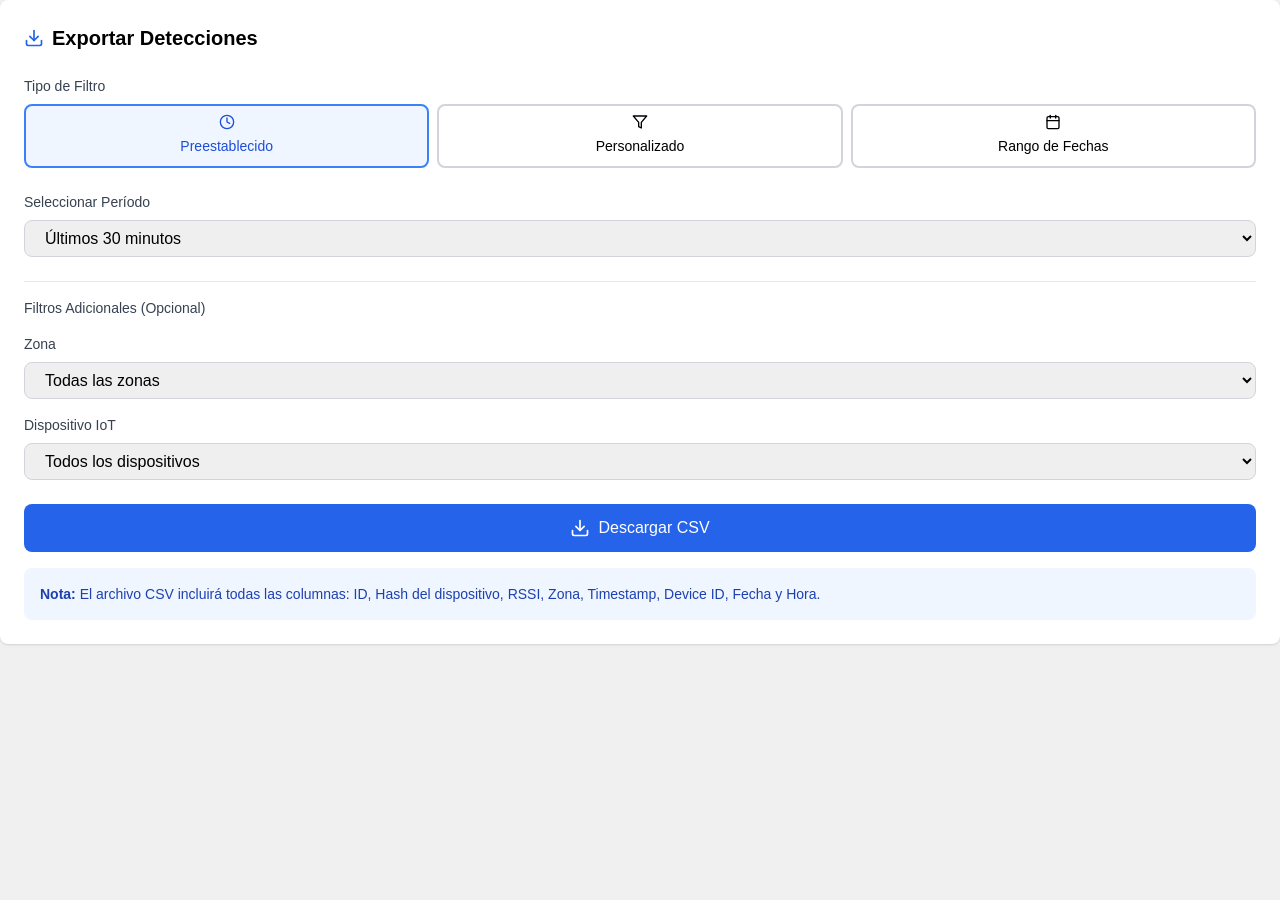
Test: ExportFilters Component › debe limpiar el input personalizado eliminando no dígitos y ceros a la izquierda
The width and height of the screenshot is (1280, 900).
Click the button "Personalizado". click: coordinates (640, 136)
box: x1=437 y1=104 x2=843 y2=168
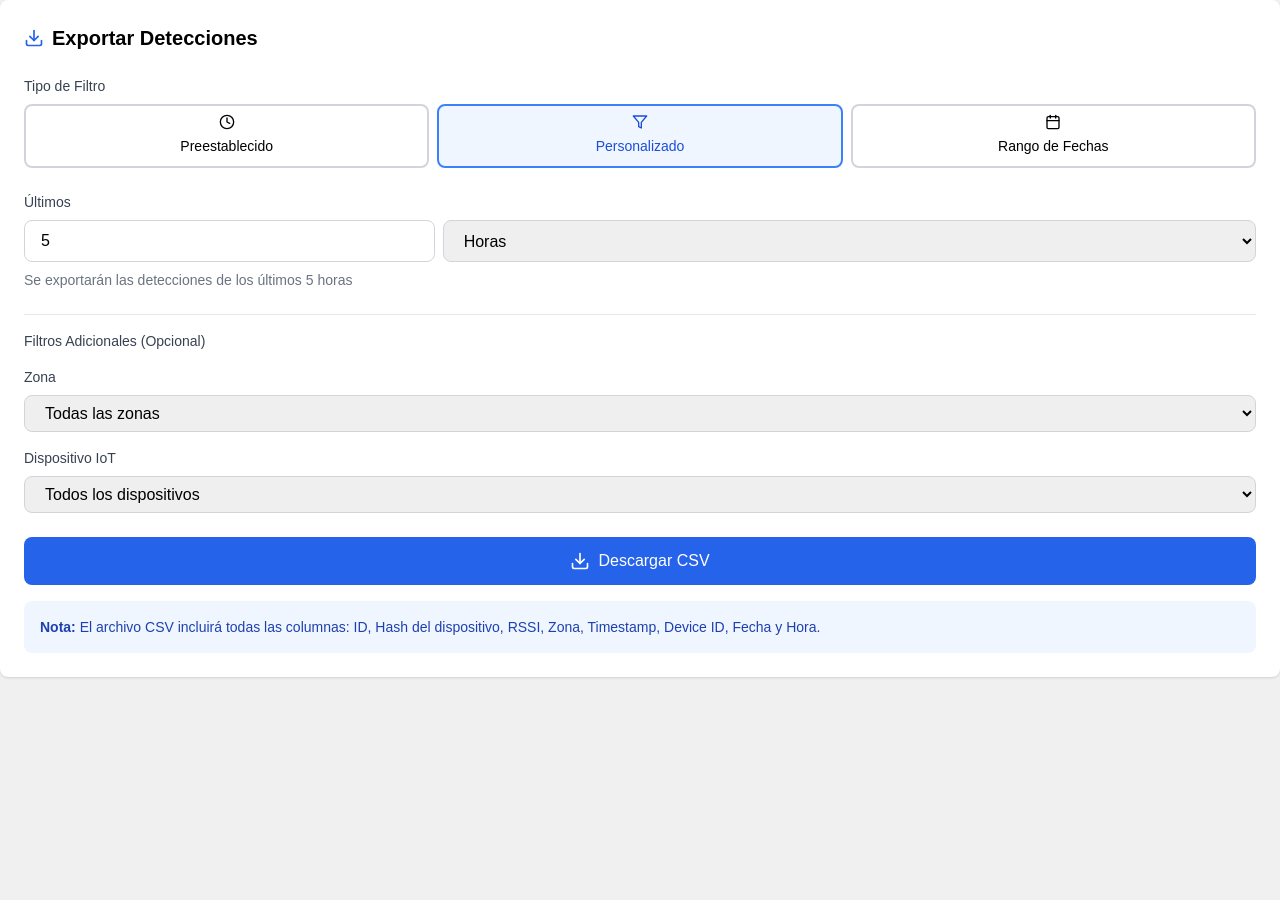
Replace the text in the field with placeholder "Cantidad" with "abc12". click: coordinates (229, 241)
box: x1=24 y1=220 x2=435 y2=262
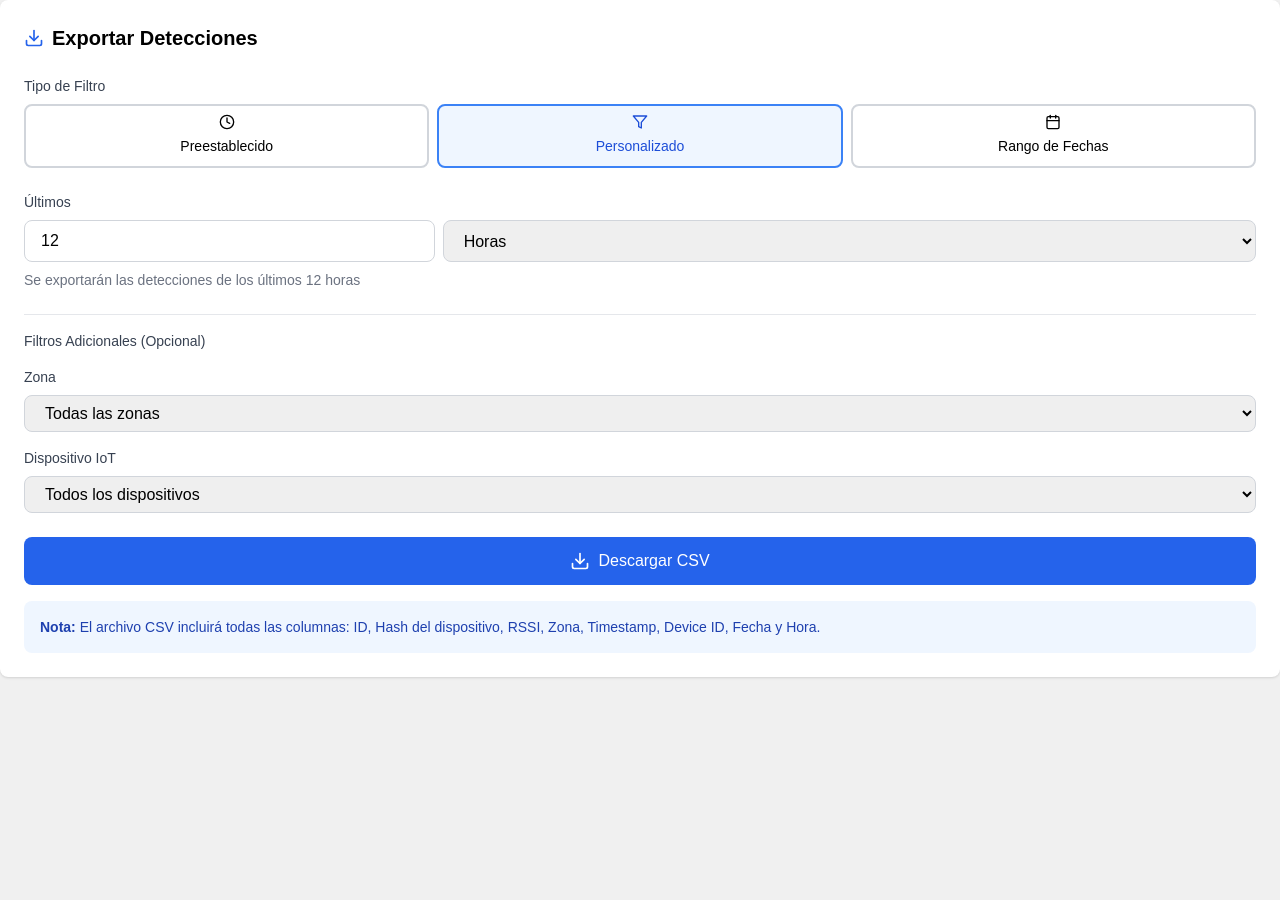
Check: the field with placeholder "Cantidad" holds "12"
Replace the text in the field with placeholder "Cantidad" with "007". click: coordinates (229, 241)
box: x1=24 y1=220 x2=435 y2=262
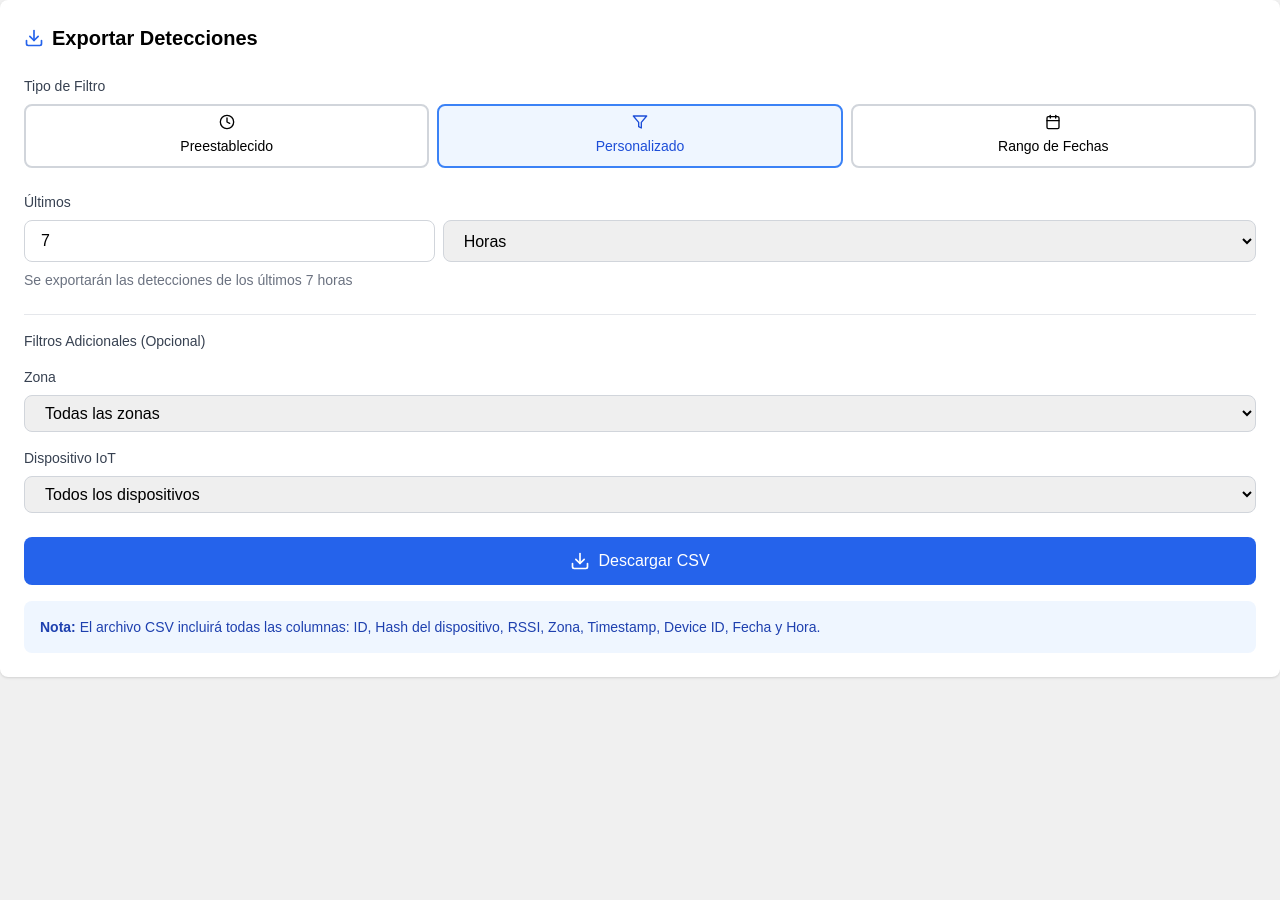
Check: the field with placeholder "Cantidad" holds "7", box x1=24 y1=220 x2=435 y2=262
